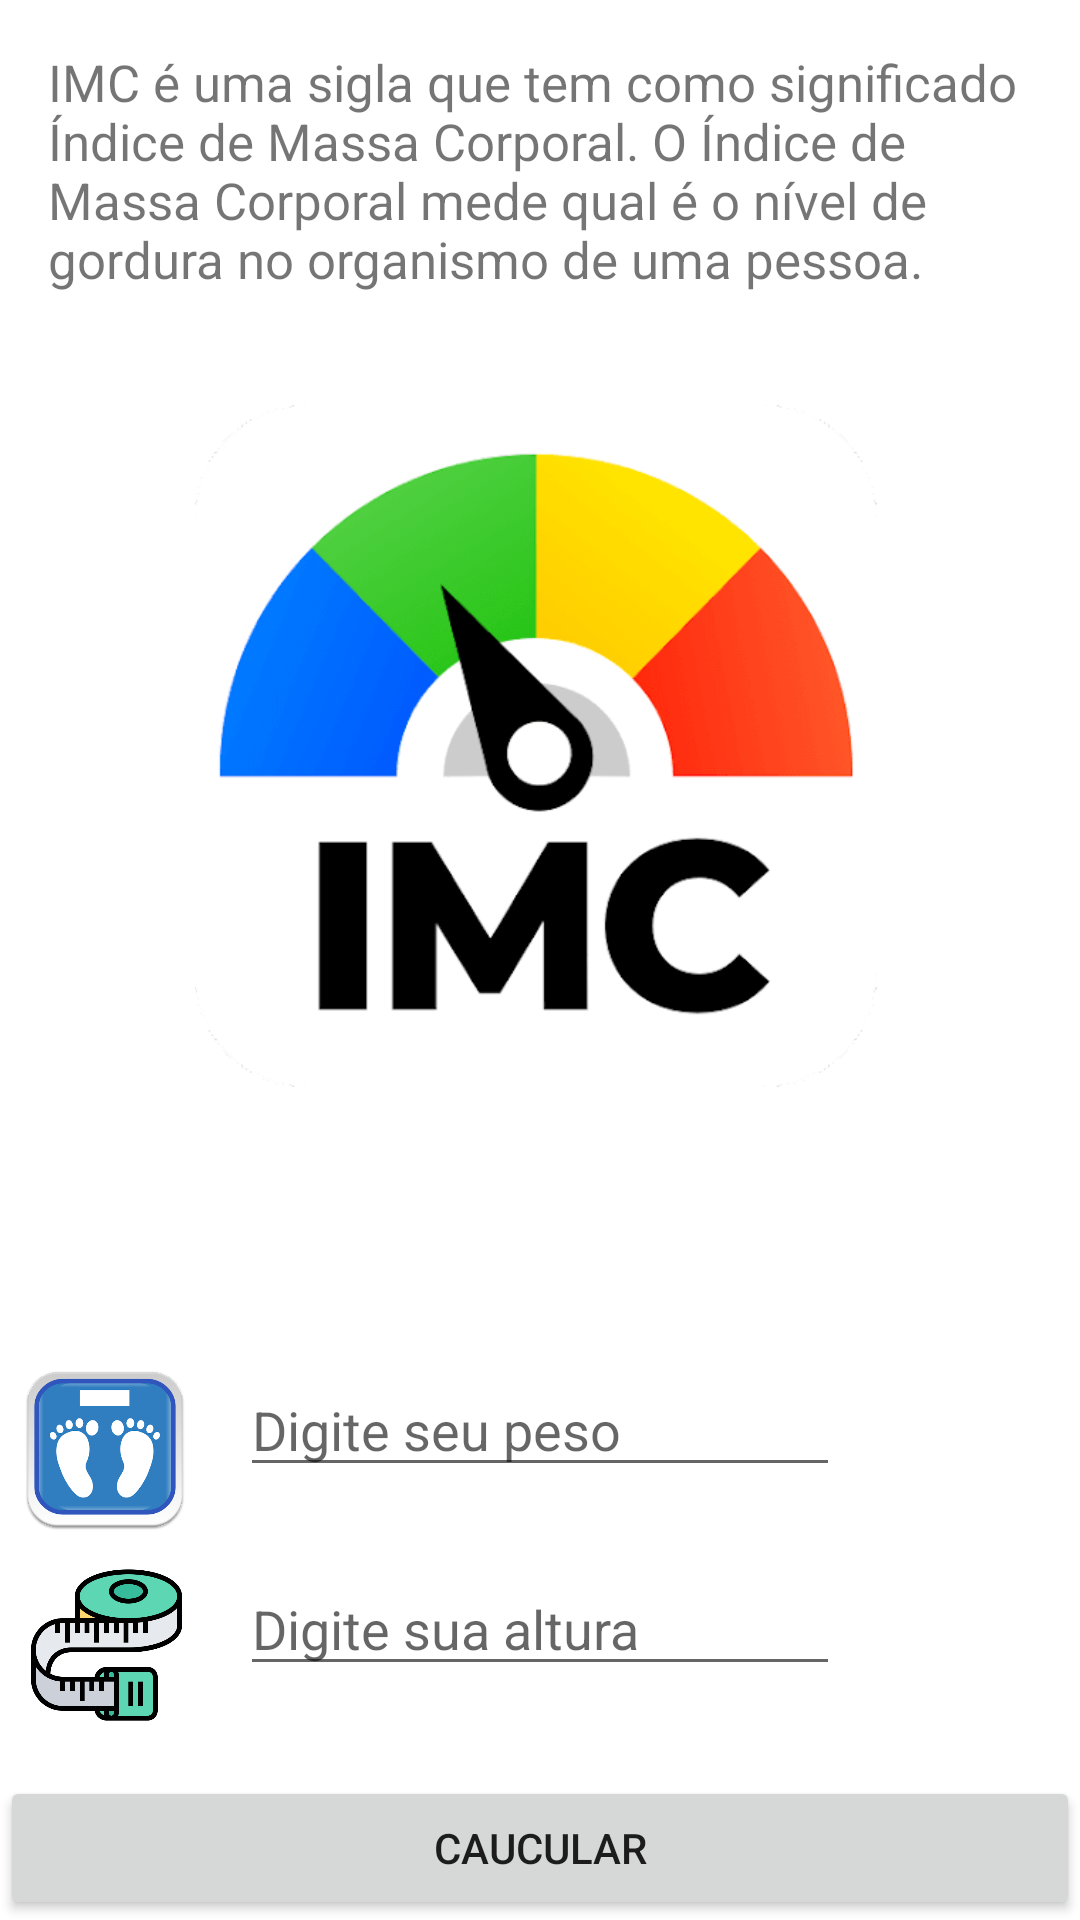

Icons on this 1080*1920 Android screen, each with the point to tap as (x=x, y=y):
balancaimc: (x=105, y=1450)
fitametrica: (x=106, y=1645)
